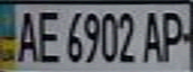0: (100, 8, 121, 64)
2: (115, 8, 142, 64)
6: (60, 8, 84, 64)
9: (81, 7, 103, 64)
A: (9, 7, 42, 63), (139, 8, 169, 64)
E: (33, 7, 63, 63)
P: (157, 7, 190, 63)
